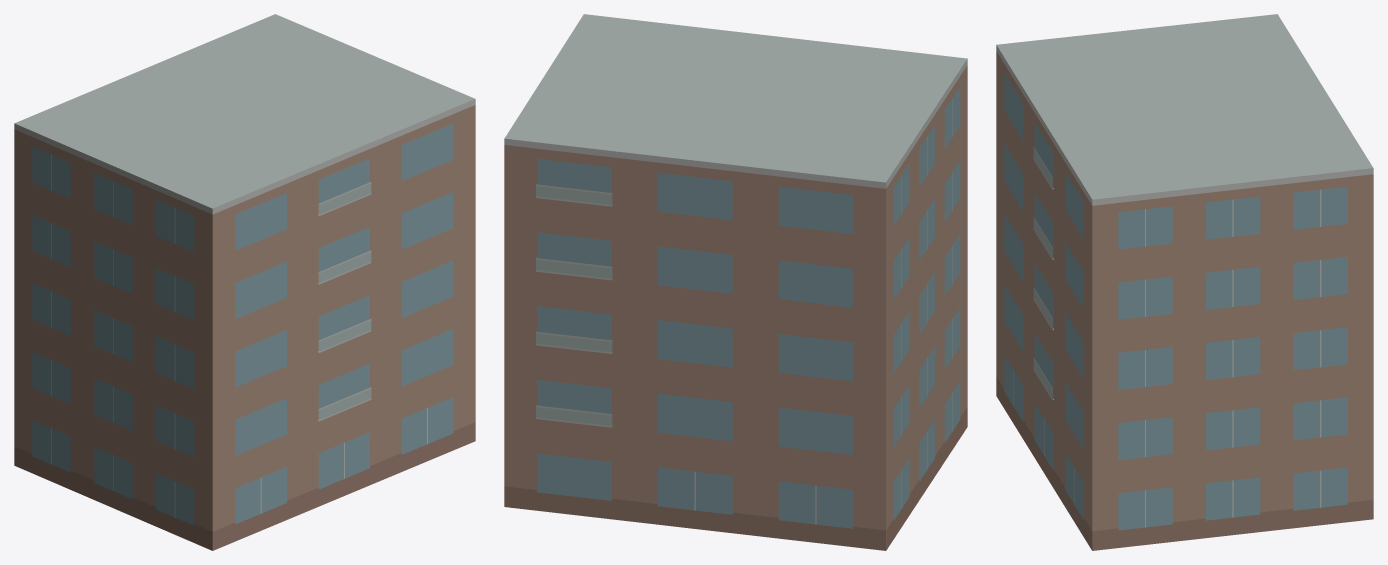
The model's file is survey-upis-32665199.glb.
3 renders of one model, left to right at view 1: azimuth 30°, elevation 25°; view 2: azimuth 150°, elevation 25°; view 3: azimuth 270°, elevation 25°, orthographic. The views are drawn at different scales.
Parts seen in each view (by area): view 1: survey-upis-32665199.tmp; view 2: survey-upis-32665199.tmp; view 3: survey-upis-32665199.tmp.
Boxes of the visible parts, left/top/right/bottom form: survey-upis-32665199.tmp: left=14, top=14, right=475, bottom=550; survey-upis-32665199.tmp: left=504, top=14, right=967, bottom=550; survey-upis-32665199.tmp: left=996, top=14, right=1373, bottom=550.
Bounding box in the file's own units: 16.12 × 14.2 × 13.84.
